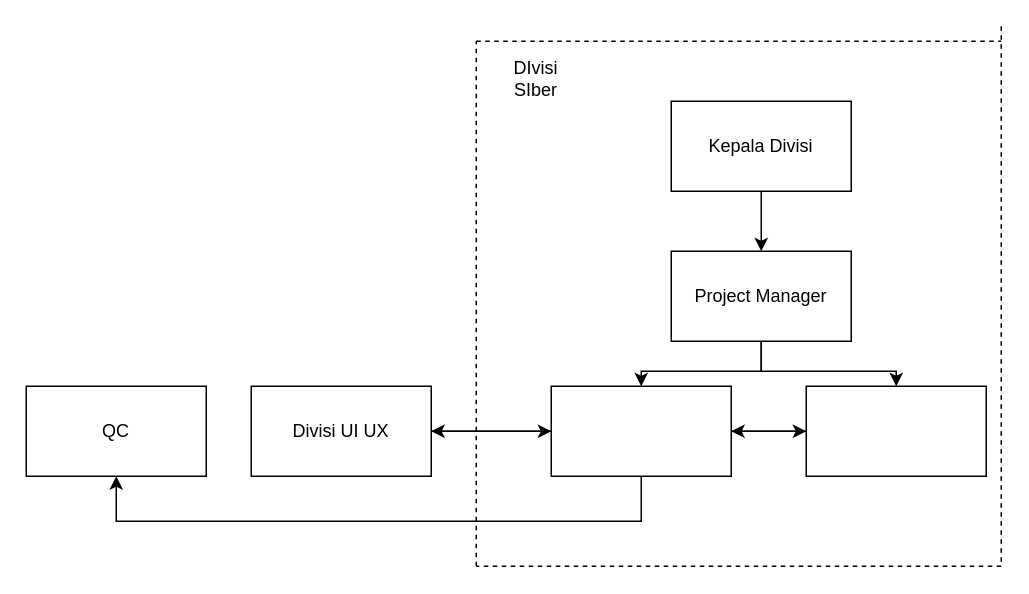
Image size: 1029x594. Some labels were removed from this diagram. The box of each missing label's shape, as (x1, y1, x2, y2) in pixels:
Development: (550, 385, 731, 476)
Riset: (805, 385, 986, 476)
